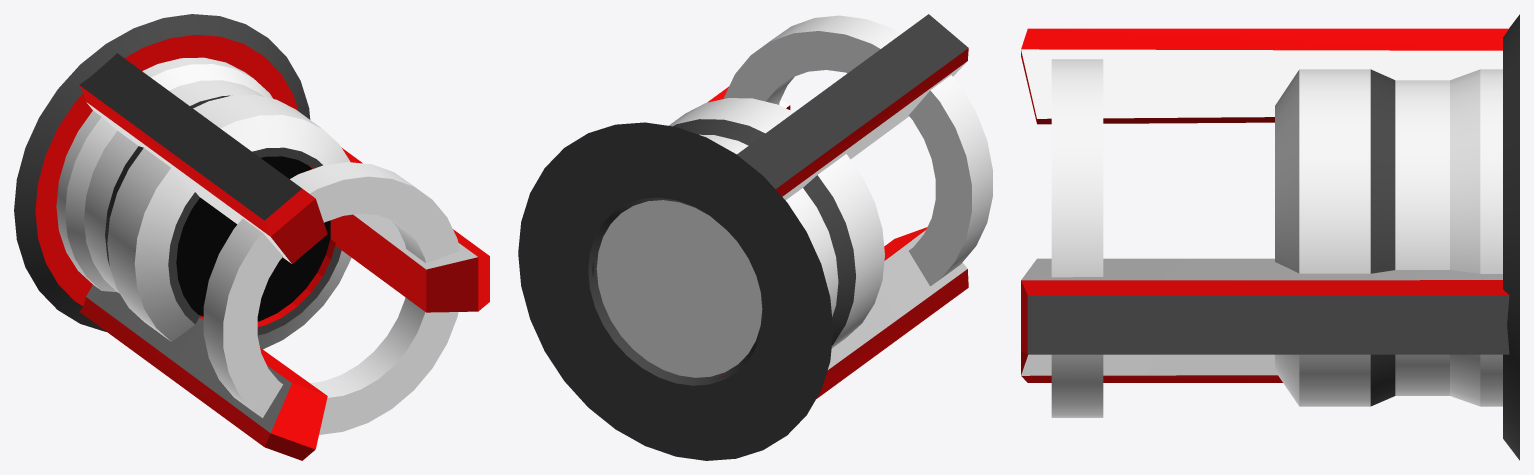
File: skyPort.obj
3 views of the same model, side by side, from view 1: azimuth 30°, elevation 25°; view 2: azimuth 150°, elevation 25°; view 3: azimuth 270°, elevation 25° (orthographic). The views are drawn at different scales.
Visible parts, largest first — view 1: Cylinder001, Tube002, Tube001, Prism002, Prism003, Prism001; view 2: Tube001, Cylinder001, Tube002, Prism002, Prism003; view 3: Cylinder001, Prism001, Prism002, Tube002, Tube001, Prism003.
Part boxes in pixels (box(x1,y1,x2,y2)): Cylinder001: box(56, 57, 351, 349); Tube002: box(203, 162, 459, 434); Tube001: box(14, 14, 310, 331); Prism002: box(79, 53, 327, 263); Prism003: box(79, 285, 327, 460); Prism001: box(330, 147, 489, 312); Tube001: box(518, 122, 833, 460); Cylinder001: box(596, 98, 884, 377); Tube002: box(724, 15, 992, 286); Prism002: box(713, 14, 968, 229); Prism003: box(710, 227, 968, 398); Cylinder001: box(1275, 69, 1502, 406); Prism001: box(1021, 258, 1509, 354); Prism002: box(1021, 28, 1508, 124); Tube002: box(1051, 59, 1103, 417); Tube001: box(1503, 14, 1519, 460); Prism003: box(1021, 351, 1282, 382).
Size of the model in its own units: 1.58 by 1.58 by 1.76.
